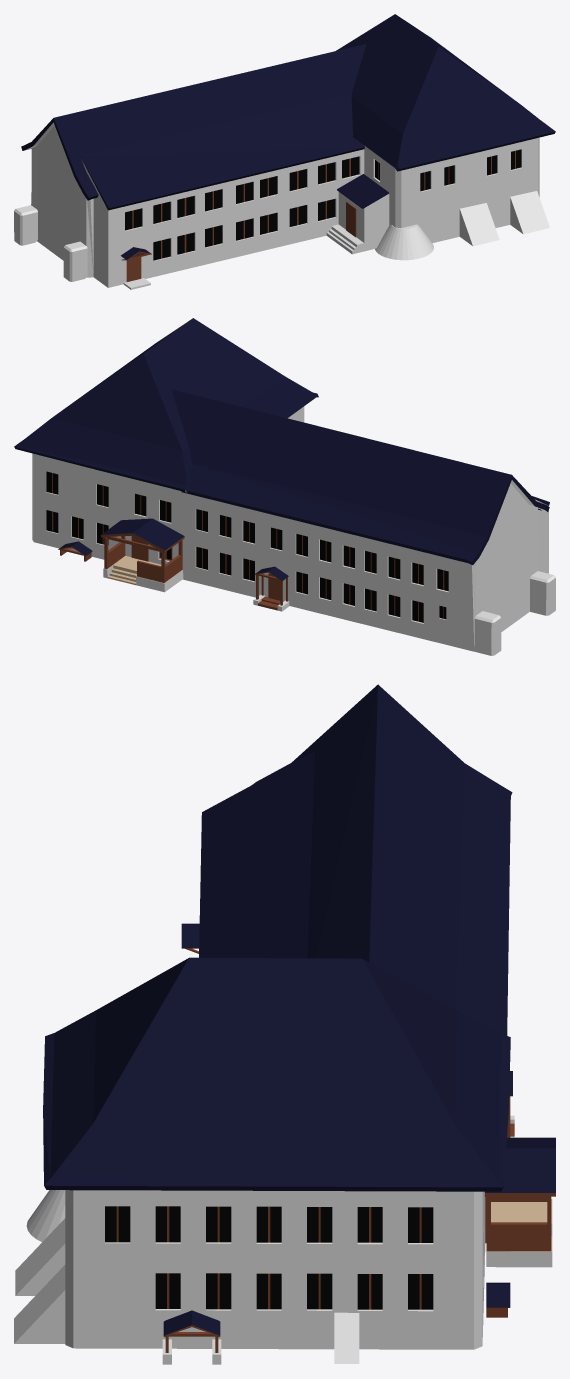
Rendered from bratsky.gltf.
The picture shows the model from 3 angles, top to bottom: view 1: azimuth 30°, elevation 25°; view 2: azimuth 150°, elevation 25°; view 3: azimuth 270°, elevation 25°; orthographic projection. The views are drawn at different scales.
Visible parts, largest first — view 1: Bratsky Corpus, Cube.003, Column, Cone, Cube.004, Cube.005, Cube.002; view 2: Bratsky Corpus, Wood Plank, Column, Enter 1, Cube, Wood Plank.001; view 3: Bratsky Corpus, Wood Plank, Cube.005, Enter 1, Cube.004, Cube.008, Cube.006, Cone, Cube.007.
Boxes of the visible parts, x1,y1,x2,y2 form: Bratsky Corpus: (21, 14, 555, 287); Cube.003: (326, 174, 389, 254); Column: (14, 205, 87, 281); Cone: (375, 224, 433, 260); Cube.004: (459, 203, 499, 246); Cube.005: (510, 191, 549, 234); Cube.002: (123, 257, 150, 289); Bratsky Corpus: (14, 318, 549, 651); Wood Plank: (101, 518, 184, 582); Column: (474, 571, 555, 655); Enter 1: (103, 556, 183, 592); Cube: (253, 566, 289, 611); Wood Plank.001: (137, 560, 161, 582); Bratsky Corpus: (43, 684, 512, 1349); Wood Plank: (484, 1137, 555, 1251); Cube.005: (14, 1265, 65, 1343); Enter 1: (486, 1199, 552, 1267); Cube.004: (15, 1218, 65, 1295); Cube.008: (162, 1310, 221, 1364); Cube.006: (334, 1312, 359, 1363); Cone: (26, 1190, 65, 1241); Cube.007: (486, 1282, 510, 1317).
Bounding box in the file's own units: 43.5 × 15.86 × 23.89.
